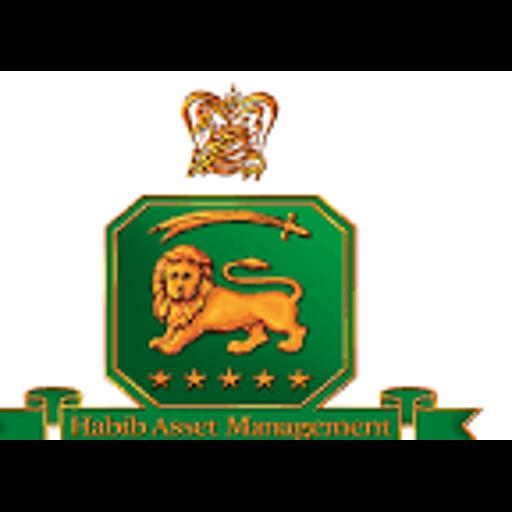Bank Al Habib: (0, 71, 512, 440)
